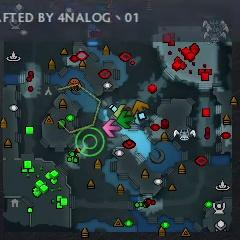x1: (102, 119, 121, 137)
x2: (115, 104, 132, 118)
x3: (134, 112, 149, 126)
x4: (117, 111, 135, 129)
x5: (132, 100, 150, 115)
